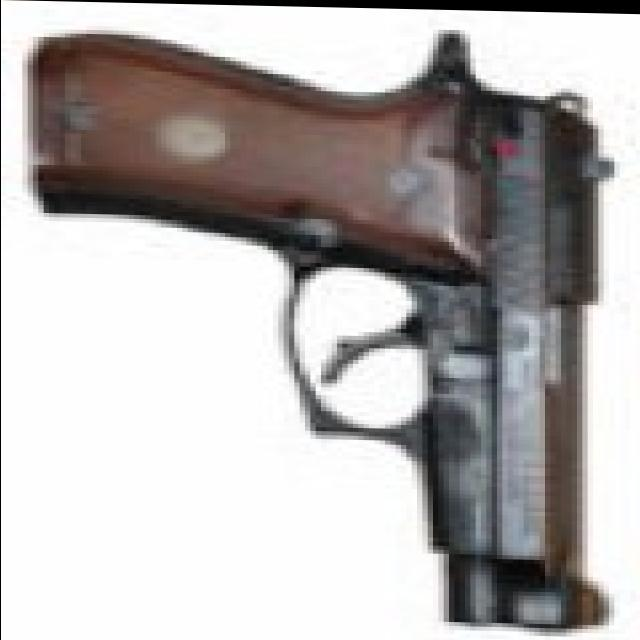handgun: (26, 8, 634, 623)
